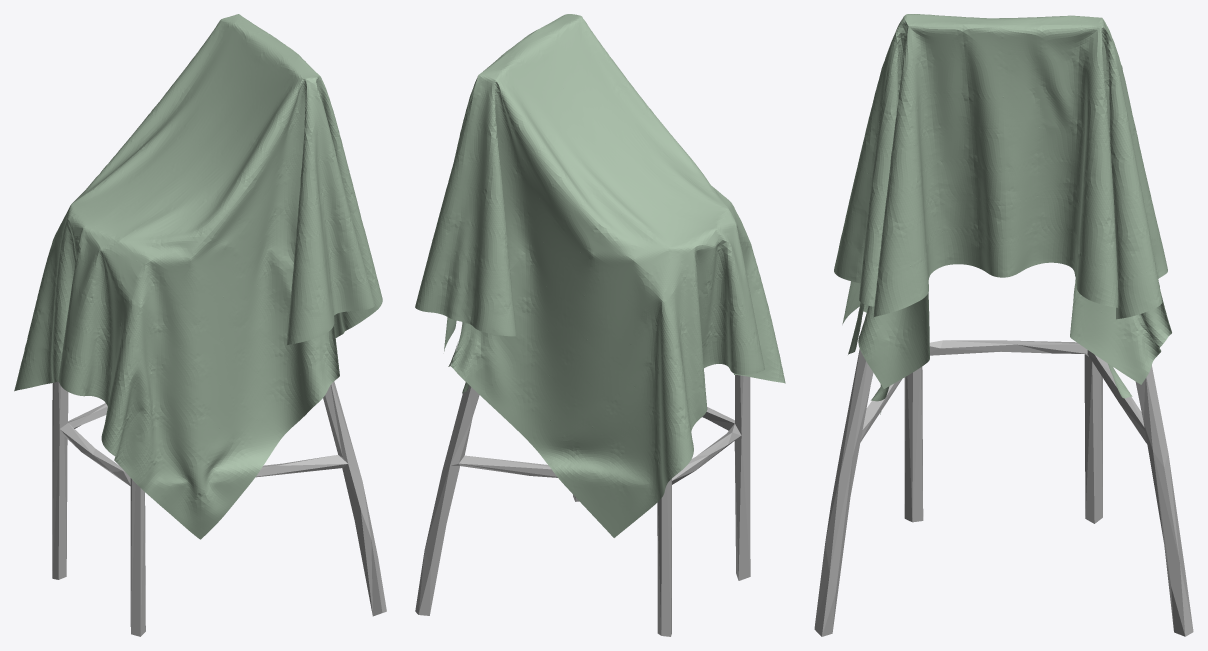
Rendered from level_4.glb.
3 views of the same model, side by side, from view 1: azimuth 30°, elevation 25°; view 2: azimuth 150°, elevation 25°; view 3: azimuth 270°, elevation 25° (orthographic). The views are drawn at different scales.
Parts seen in each view (by area): view 1: world, object.obj; view 2: world, object.obj; view 3: world, object.obj.
Part boxes in pixels (left/top/right/bottom): world: left=14, top=14, right=382, bottom=539; object.obj: left=52, top=381, right=386, bottom=636; world: left=415, top=14, right=785, bottom=537; object.obj: left=415, top=375, right=750, bottom=636; world: left=834, top=14, right=1171, bottom=414; object.obj: left=814, top=340, right=1193, bottom=636.
Bounding box in the file's own units: 0.2387 × 0.4236 × 0.2427.
